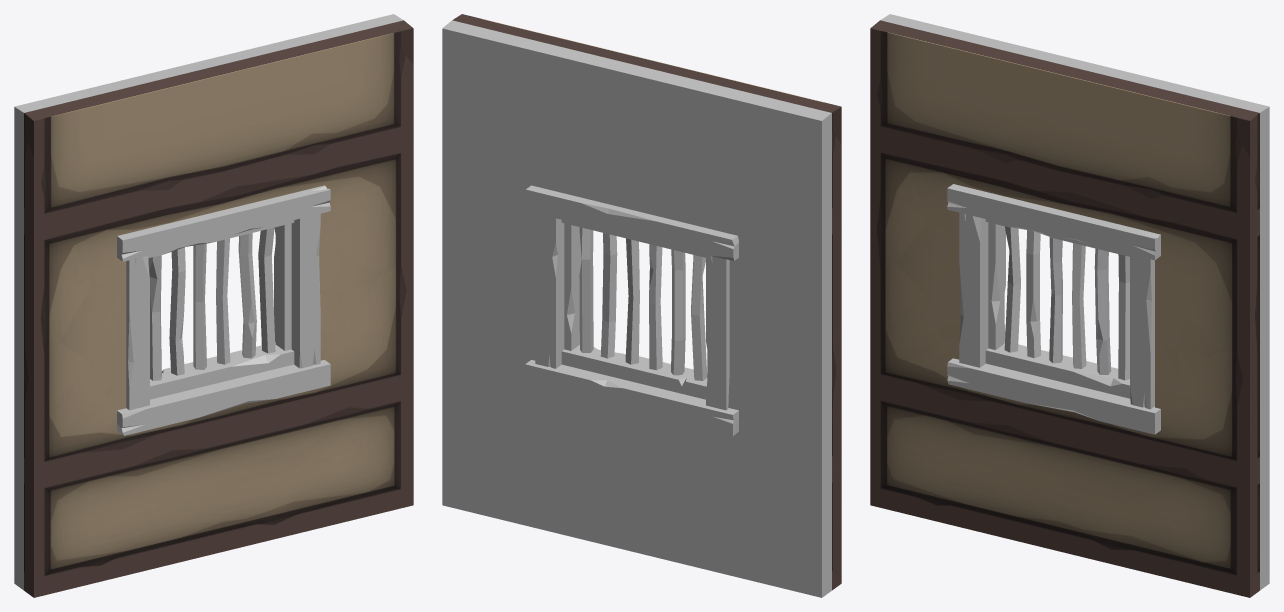
File: SM_Bld_Wall_Window_06.fbx
3 views of the same model, side by side, from view 1: azimuth 30°, elevation 25°; view 2: azimuth 150°, elevation 25°; view 3: azimuth 330°, elevation 25° (orthographic).
Parts seen in each view (by area): view 1: SM_Bld_Wall_Window_06; view 2: SM_Bld_Wall_Window_06; view 3: SM_Bld_Wall_Window_06.
Boxes of the visible parts, bbox=[...] form: SM_Bld_Wall_Window_06: bbox=[14, 14, 413, 597]; SM_Bld_Wall_Window_06: bbox=[442, 14, 841, 597]; SM_Bld_Wall_Window_06: bbox=[870, 14, 1269, 597].
Size of the model in its own units: 250 by 301 by 36.37.
